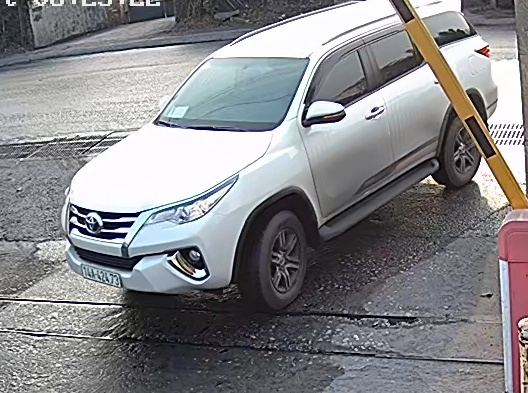vehicle plate: (76, 262, 129, 289)
